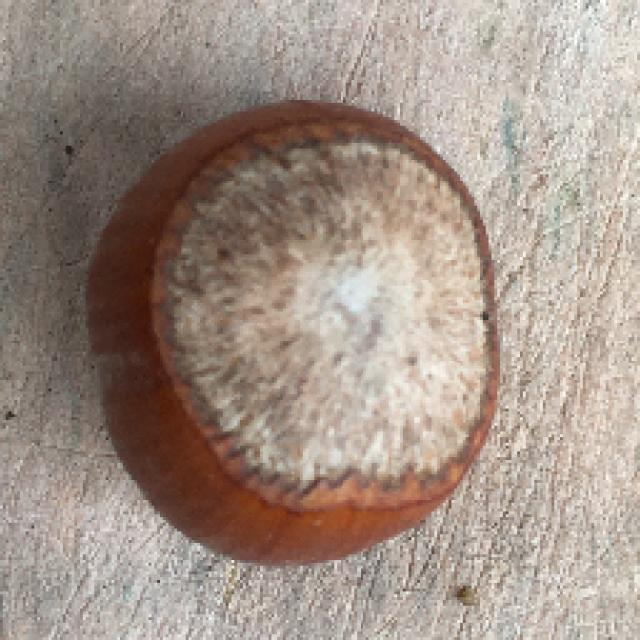qualityHazelnut: (79, 96, 505, 572)
